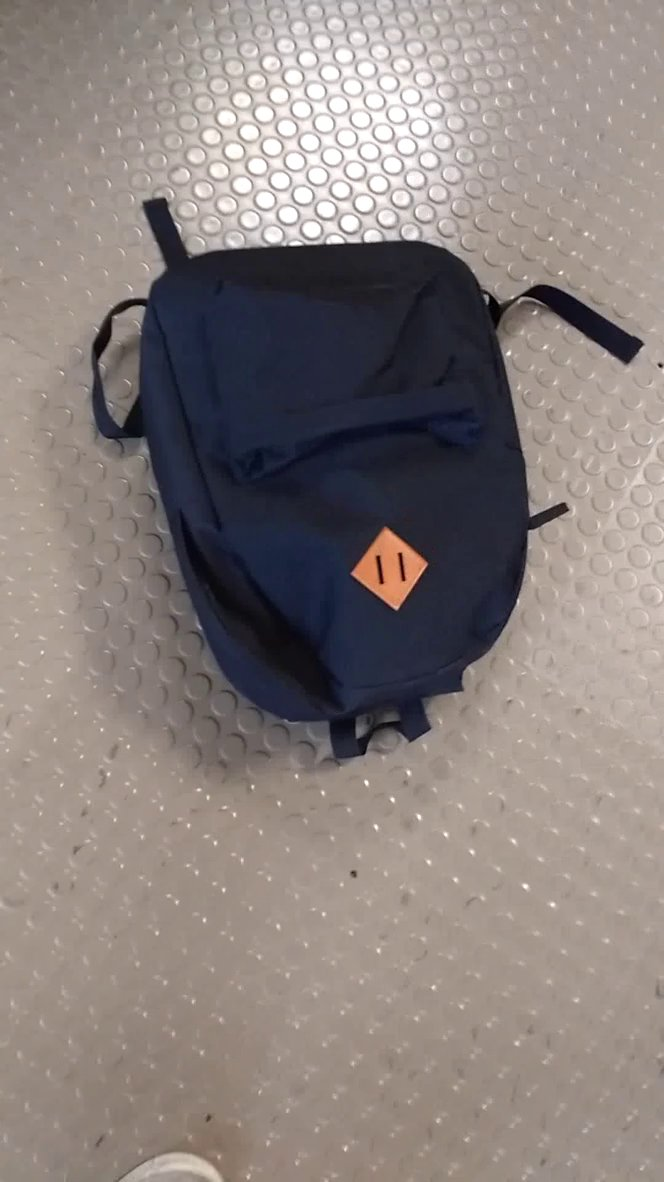bag: (78, 179, 654, 763)
